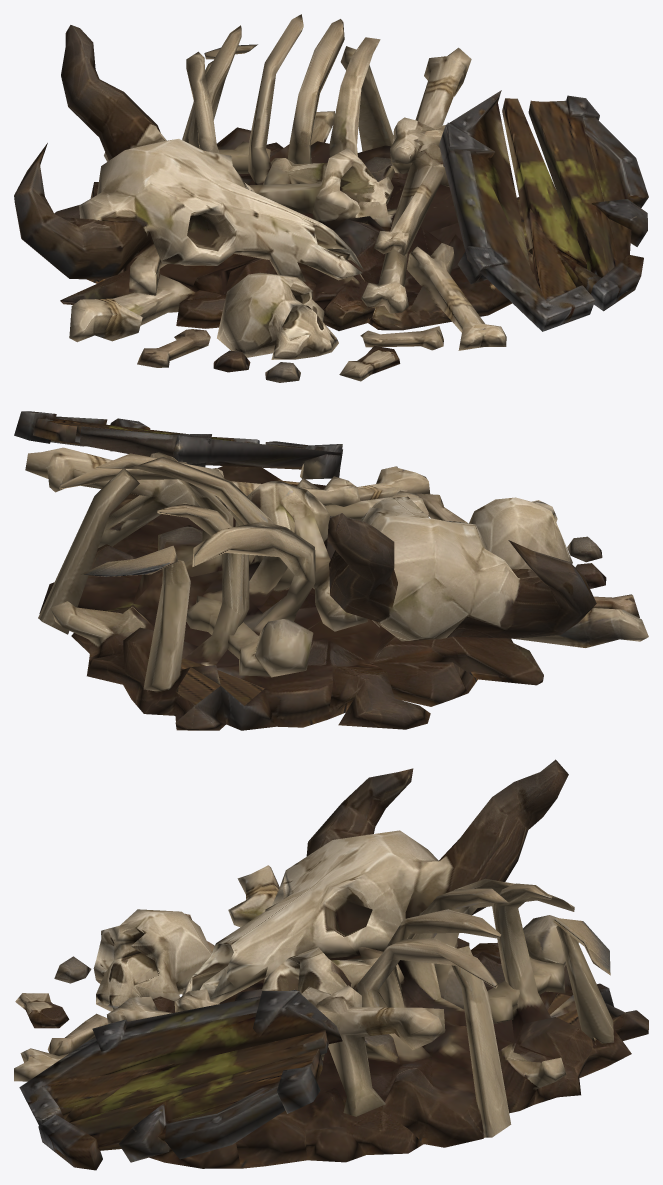
The model's file is gob_os.glb.
3 views of the same model, one above another, from view 1: azimuth 30°, elevation 25°; view 2: azimuth 150°, elevation 25°; view 3: azimuth 270°, elevation 25° (orthographic). The views are drawn at different scales.
Bounding box in the file's own units: 0.9653 × 0.3267 × 0.8555.
1 material, 1 textured.
